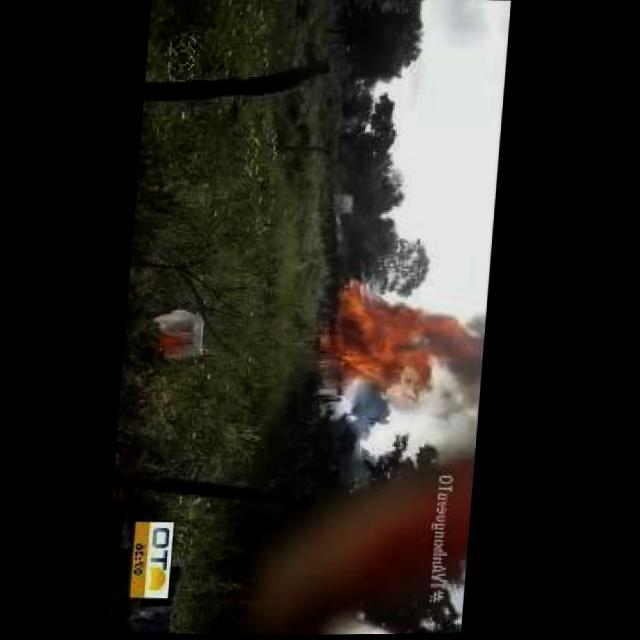helmet: (326, 283, 484, 396)
